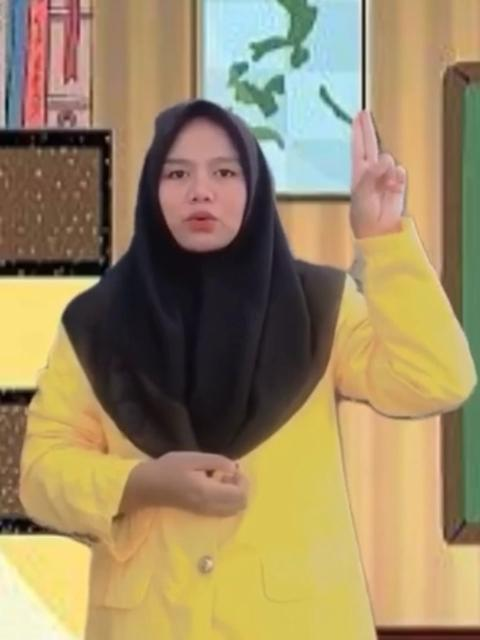U: (340, 103, 410, 231)
